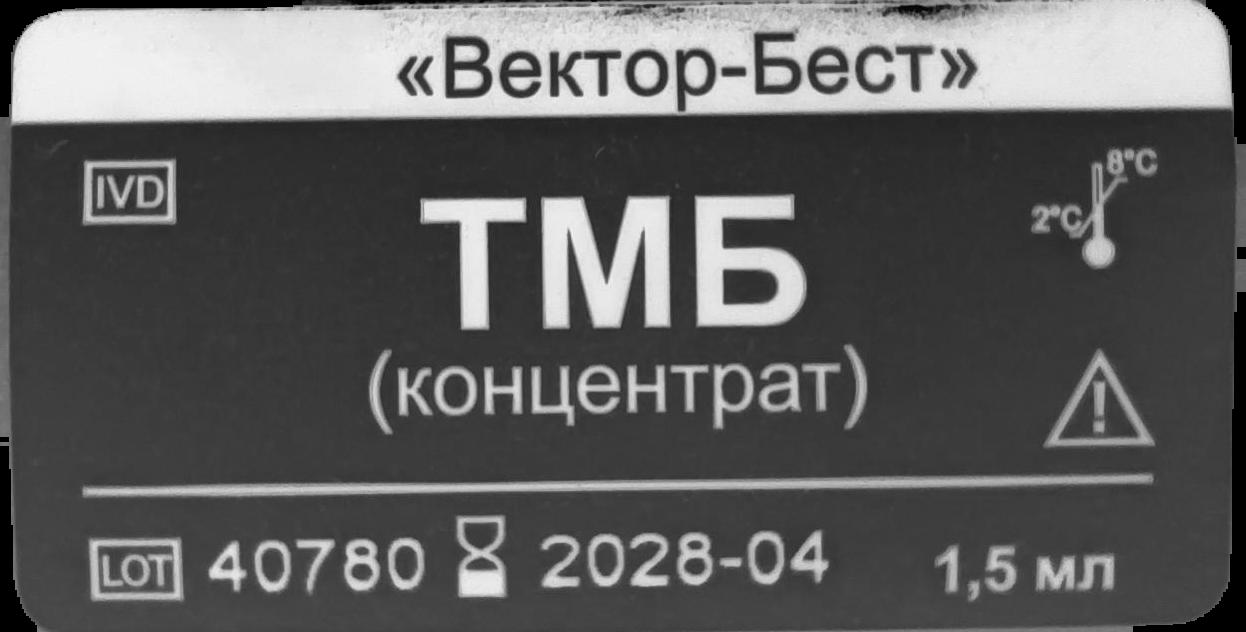something: (1026, 144, 1162, 277), (1041, 346, 1163, 451), (88, 536, 188, 606), (78, 158, 179, 226), (456, 512, 507, 601)
text: (359, 182, 876, 442), (379, 17, 989, 111), (536, 527, 838, 596), (204, 531, 431, 606), (925, 543, 1128, 611)
